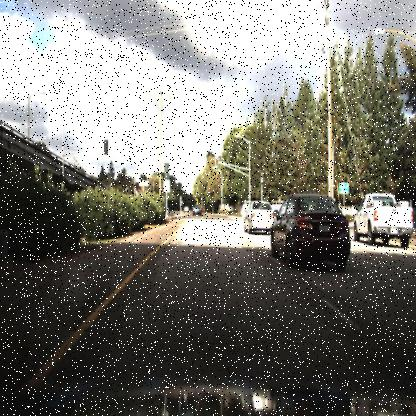car: (273, 190, 353, 282), (353, 190, 416, 251), (244, 196, 274, 232), (190, 203, 204, 219)
trafficLight-Green: (215, 156, 219, 172)
